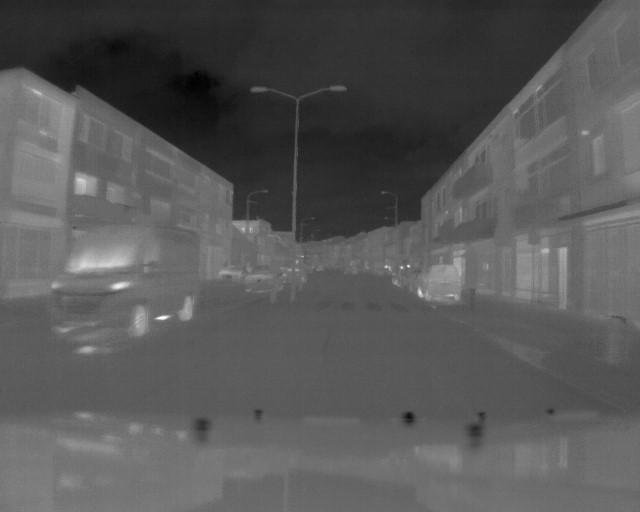car: (50, 223, 197, 335), (414, 263, 467, 307)
